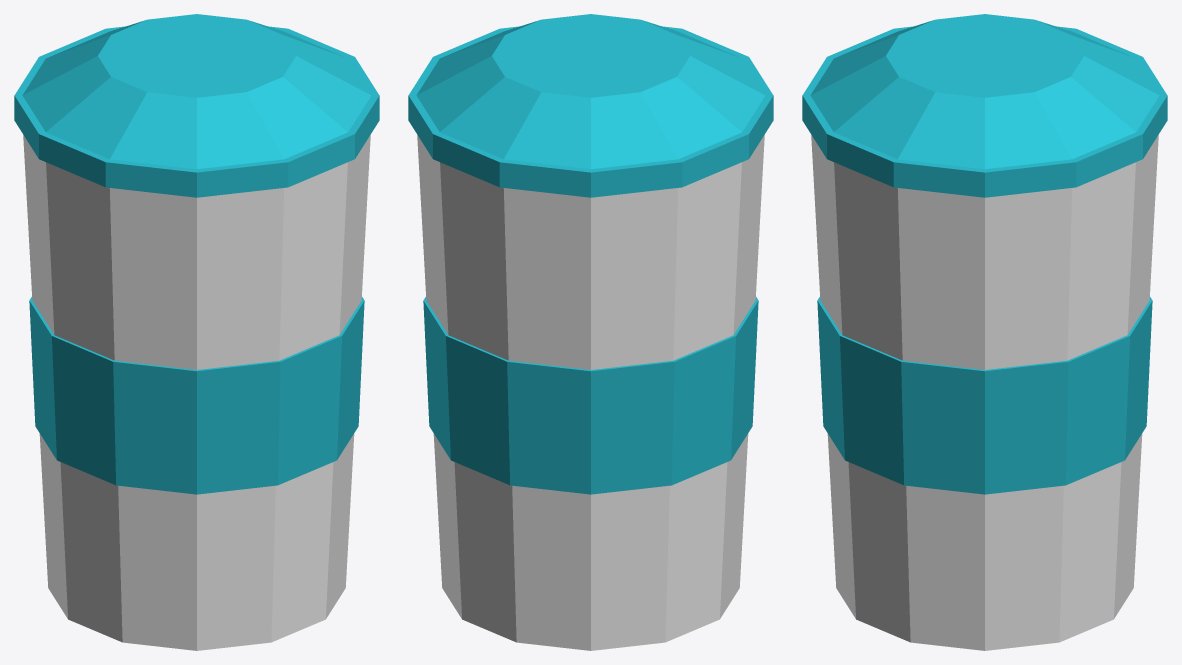
Rendered from Ayran_Model.fbx.
3 renders of one model, left to right at view 1: azimuth 30°, elevation 25°; view 2: azimuth 150°, elevation 25°; view 3: azimuth 270°, elevation 25°, orthographic.
Visible parts, largest first — view 1: Ayran_Model; view 2: Ayran_Model; view 3: Ayran_Model.
Part boxes in pixels (left/top/right/bottom): Ayran_Model: left=14, top=14, right=379, bottom=650; Ayran_Model: left=408, top=14, right=773, bottom=650; Ayran_Model: left=802, top=14, right=1167, bottom=650.
Bounding box in the file's own units: 18.4 × 29.6 × 18.4.
